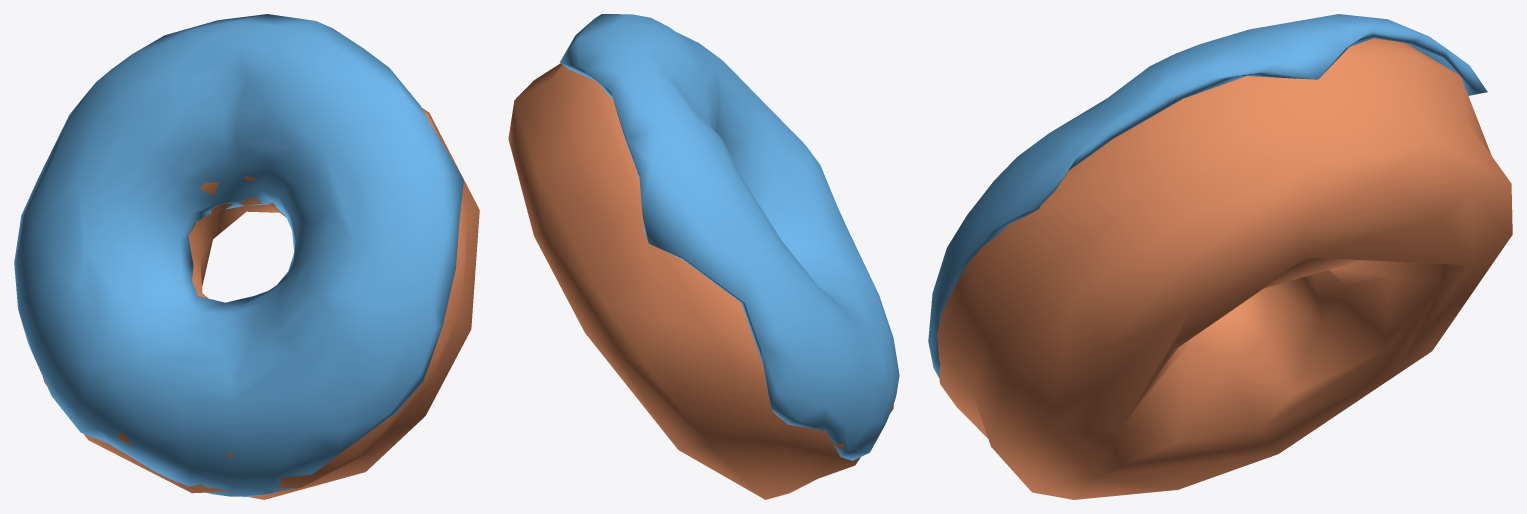
The model's file is Donut_mod_version.fbx.
3 renders of one model, left to right at view 1: azimuth 30°, elevation 25°; view 2: azimuth 150°, elevation 25°; view 3: azimuth 270°, elevation 25°, orthographic. The views are drawn at different scales.
Parts seen in each view (by area): view 1: Icing, Donnut; view 2: Icing, Donnut; view 3: Donnut, Icing.
Boxes of the visible parts, box(x1,y1,x2,y2) form: Icing: box(14, 14, 463, 496); Donnut: box(43, 108, 479, 499); Icing: box(560, 14, 899, 460); Donnut: box(508, 63, 893, 499); Donnut: box(937, 38, 1512, 499); Icing: box(928, 14, 1487, 378).
Bounding box in the file's own units: 8.49 × 9.13 × 9.45.
